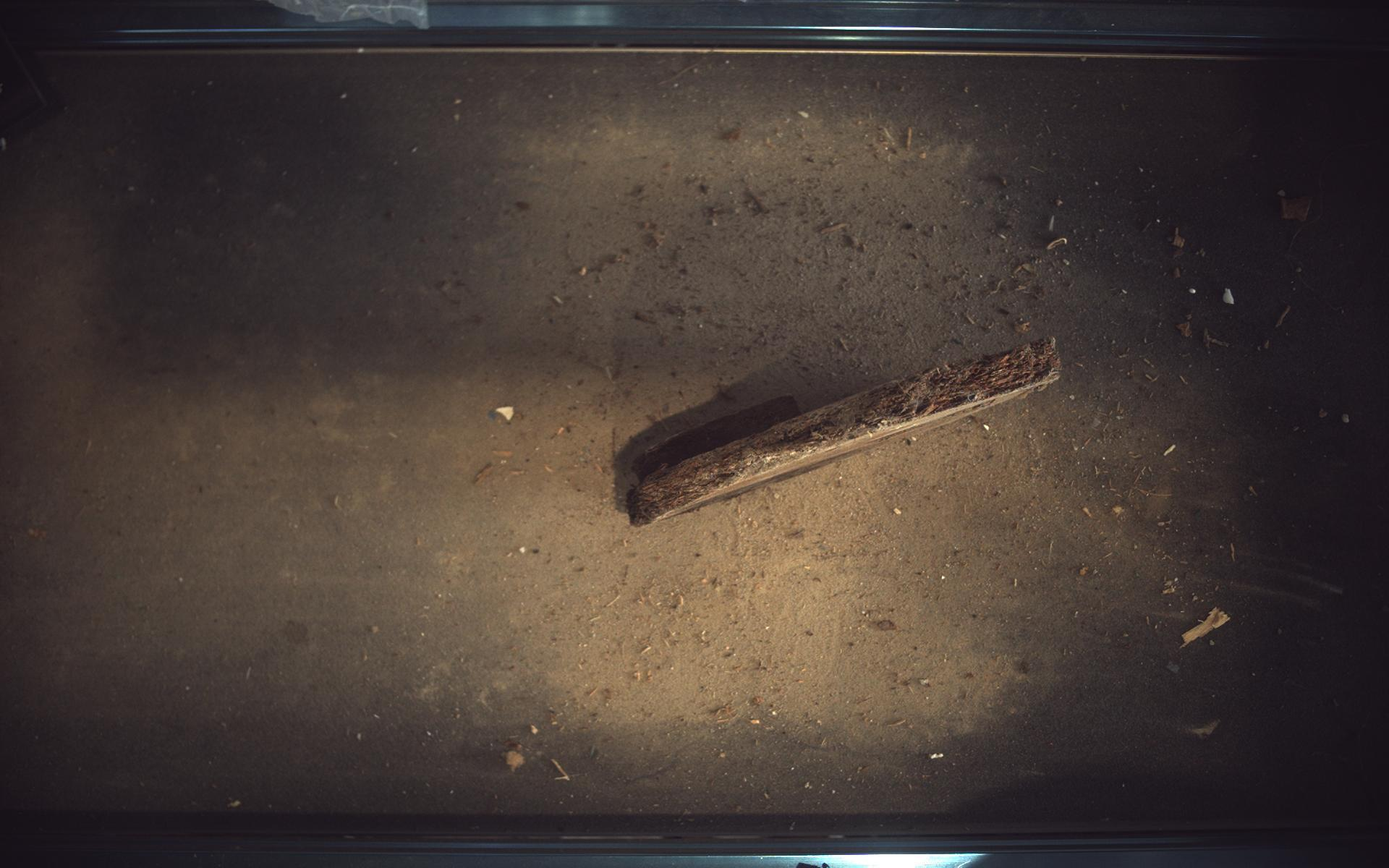wood: (628, 339, 1063, 526)
